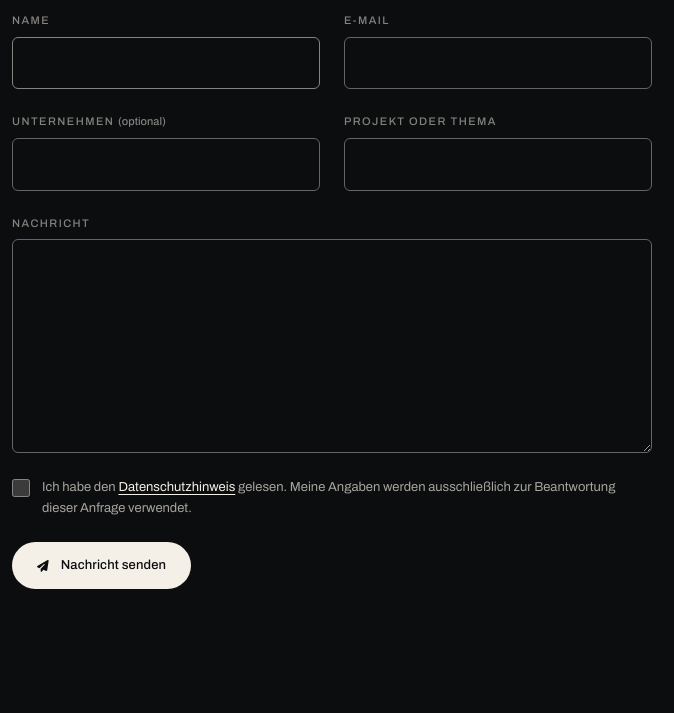
Kontaktformular › behandelt einen Netzwerkfehler als Fehlschlag, nicht als Erfolg
The width and height of the screenshot is (674, 713).
In the field labelled "Name": (166, 63) [12,36,320,89], type "Anna Beispiel"
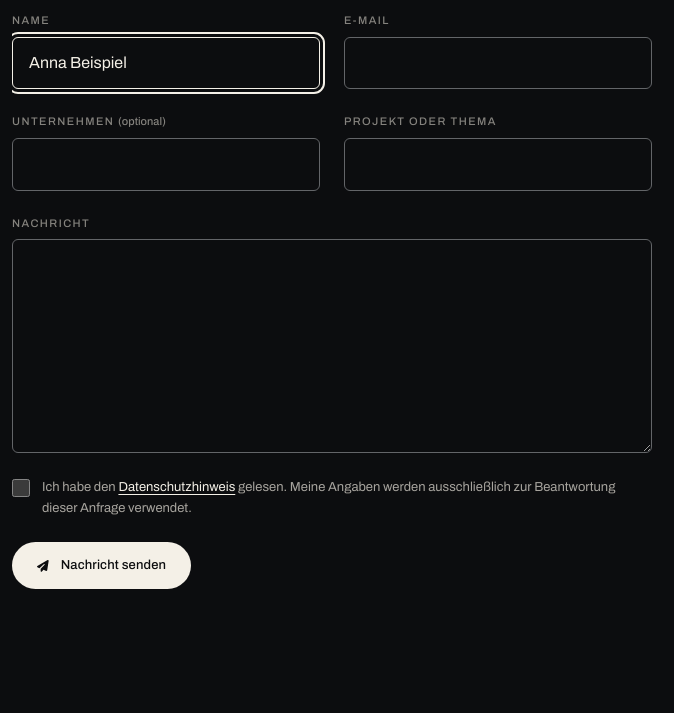
In the field labelled "E-Mail": (498, 63) [344,36,652,89], type "anna@example.com"
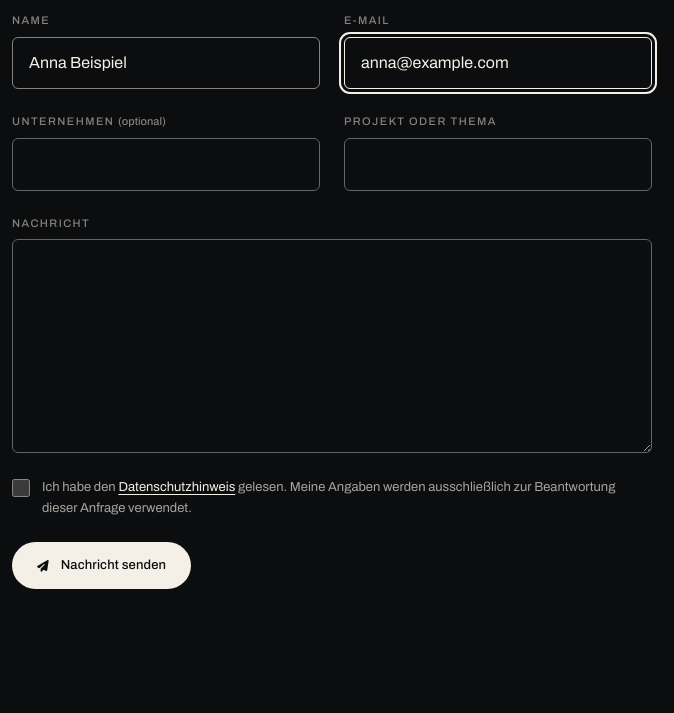
In the field labelled "Projekt oder Thema": (498, 164) [344,138,652,191], type "Individuelle Webanwendung"
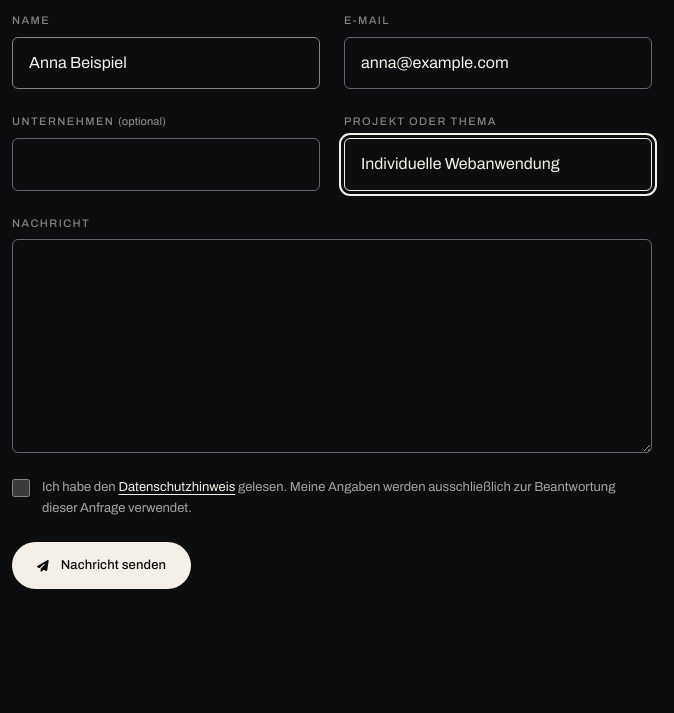
In the text box labelled "Nachricht": (332, 346) [12,239,652,453], type "Wir suchen Verstärkung im Produktteam und würden uns gern austauschen."
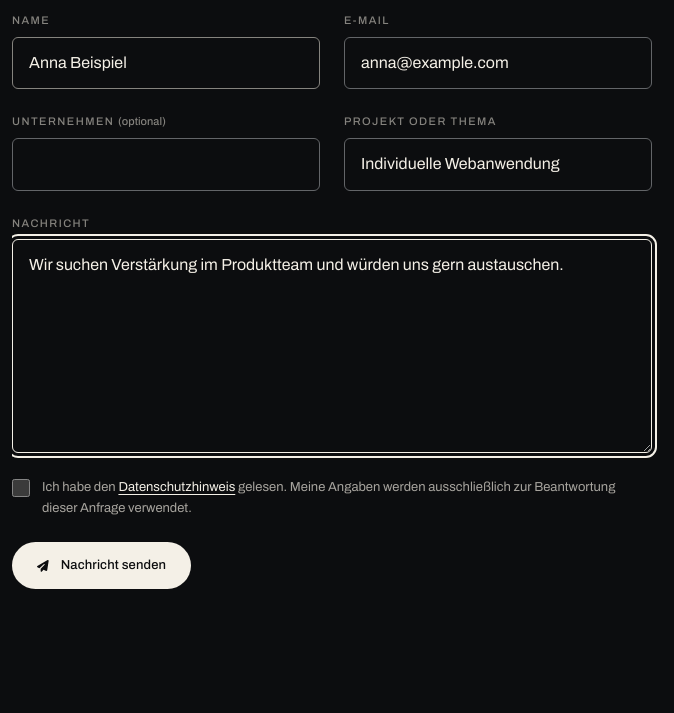
Click the checkbox labelled "Datenschutzhinweis": (21, 488) [12,479,30,497]
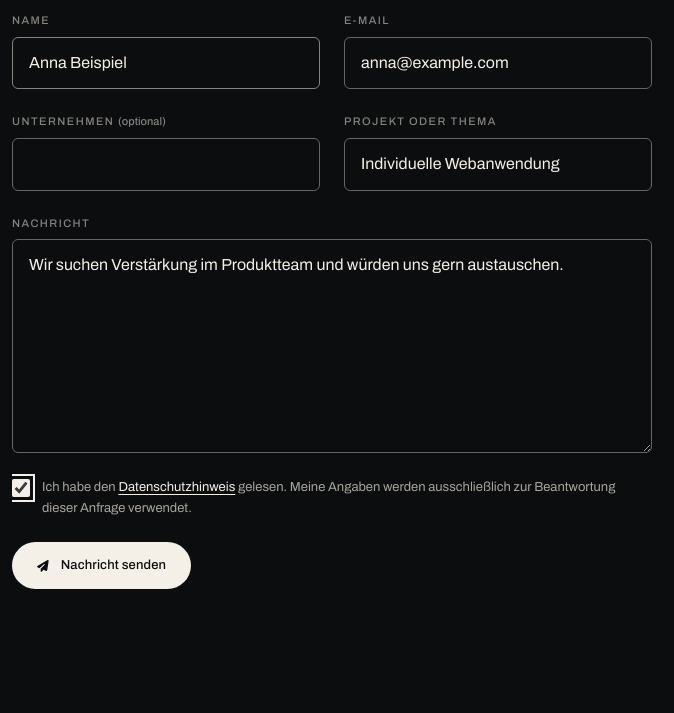
Click the button "Nachricht senden": (102, 566) [12,542,191,590]
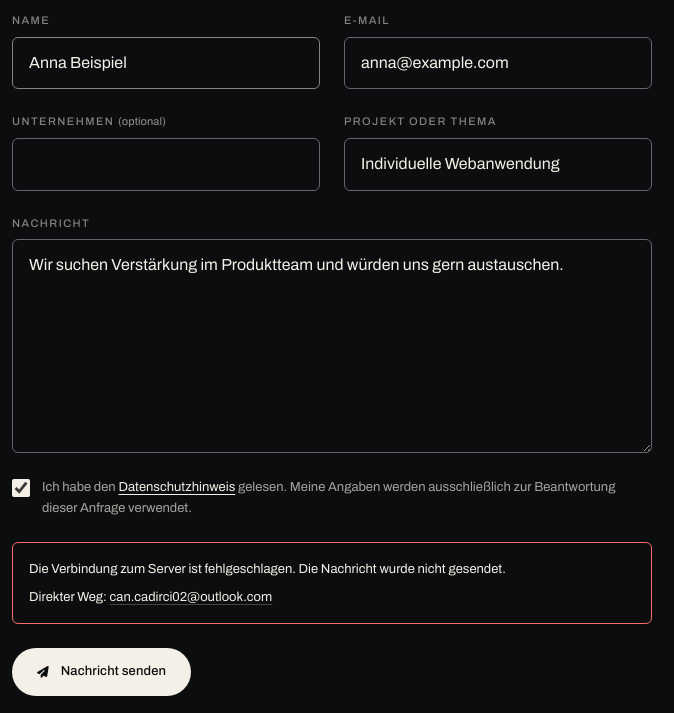
Result: the message shows "nicht gesendet" at [29,562,506,576]
